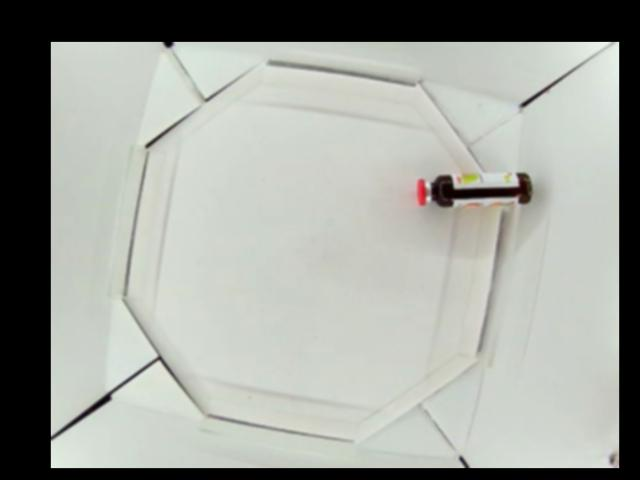Medicine: (416, 171, 533, 207)
